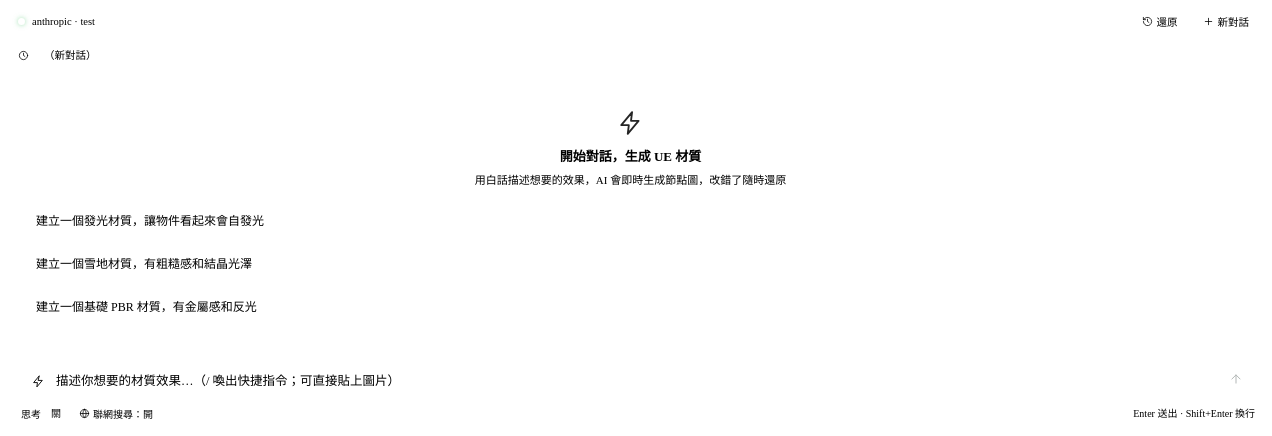
AgentChat › renders a notice item when an error event arrives
In the text box with placeholder "描述你想要的材質效果…（/ 喚出快捷指令；可直接貼上圖片）": (635, 382) [56,372,1214,391], type "觸發錯誤"
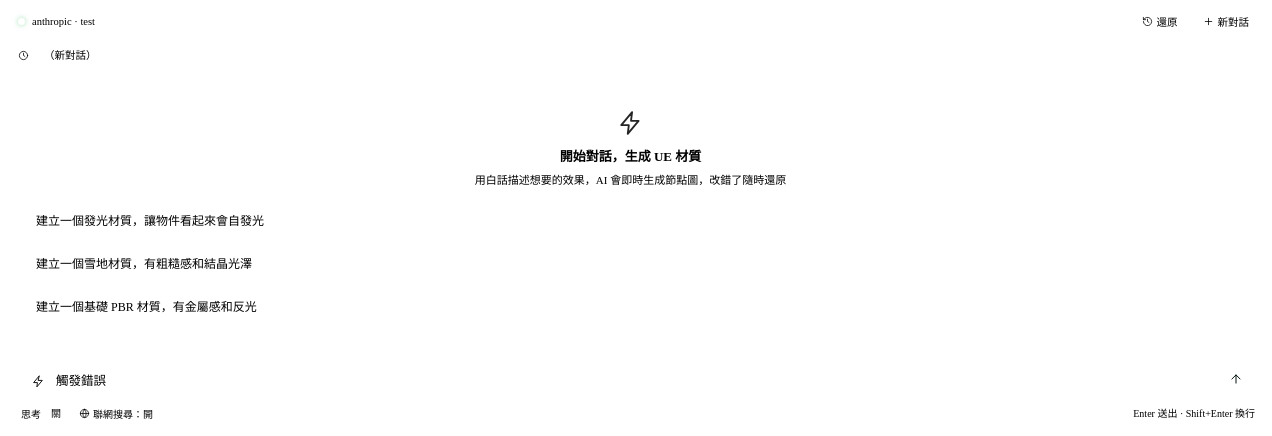
Press Enter in the text box, box [56,372,1214,391]
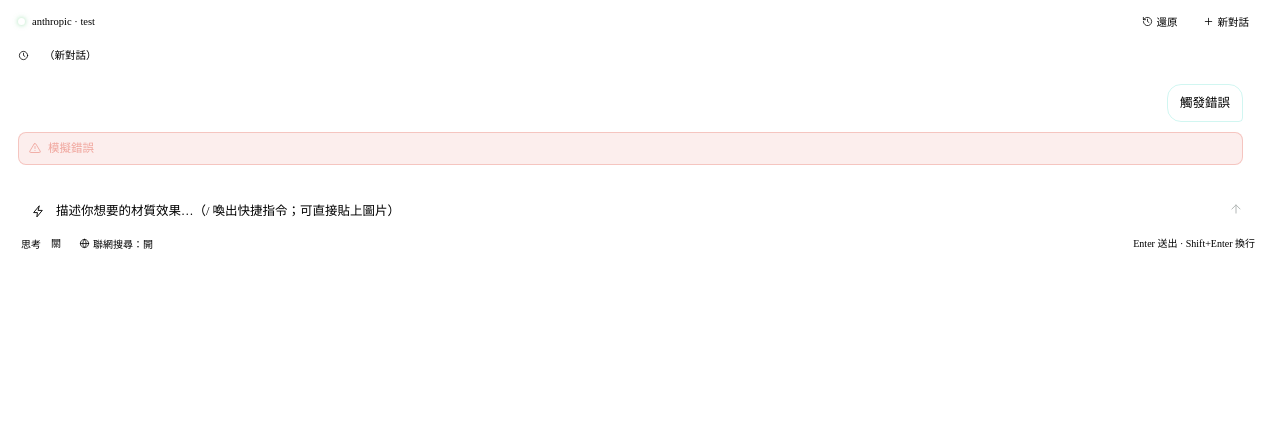
expect the element with class "error" is shown: met, box [18,132,1243,165]
expect the text "模擬錯誤" is shown: met, box [48,140,94,157]
